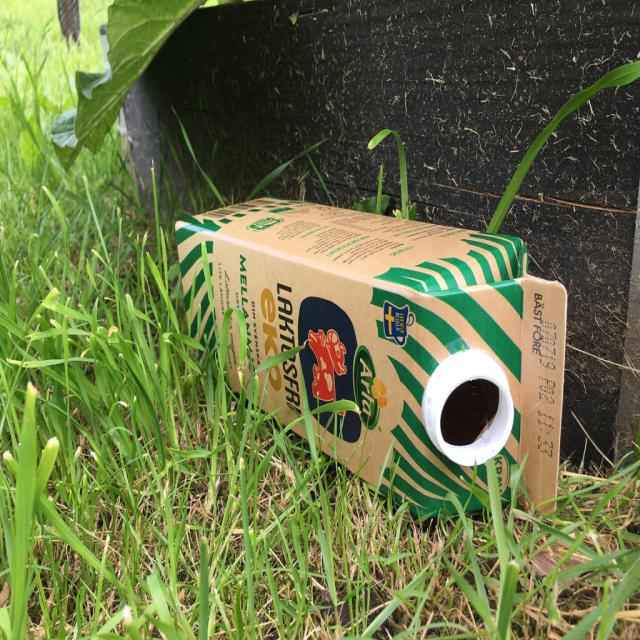cardboard: (175, 194, 567, 525)
